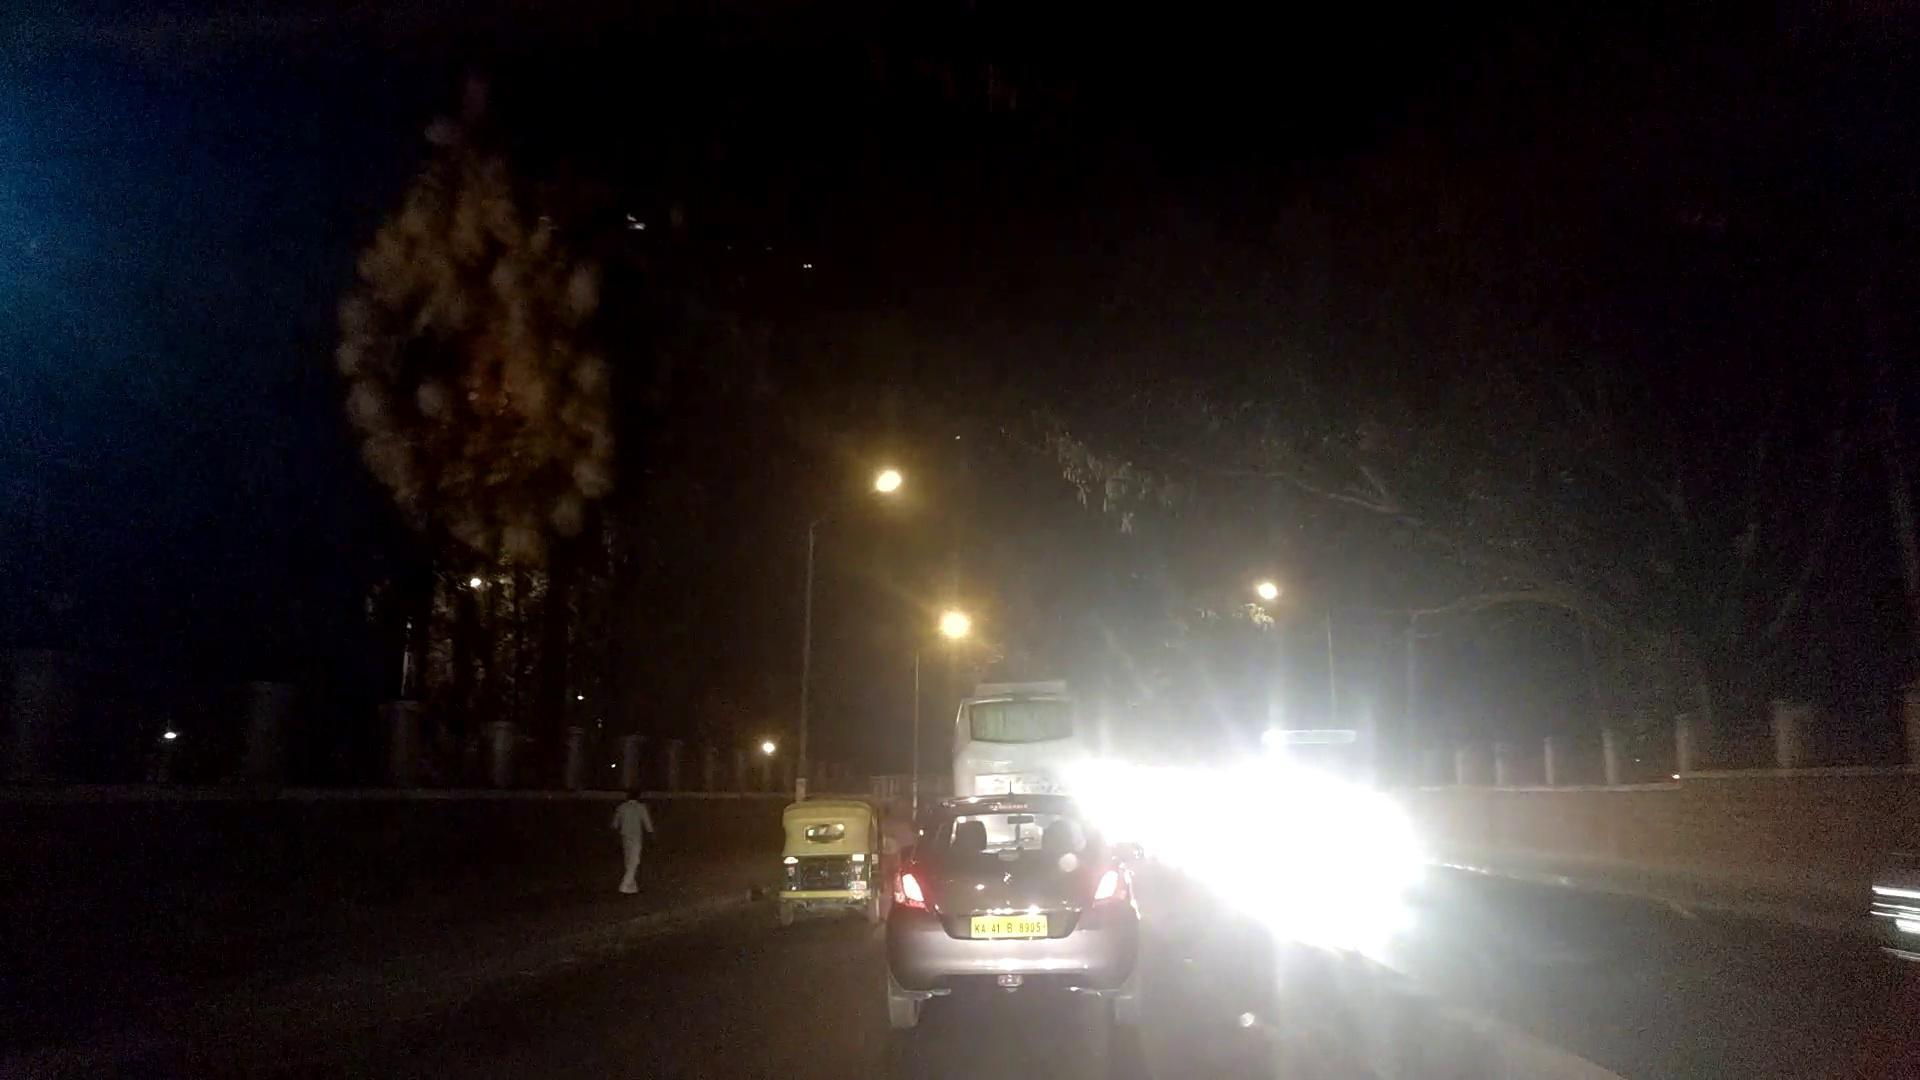on: (840, 352, 1000, 748)
